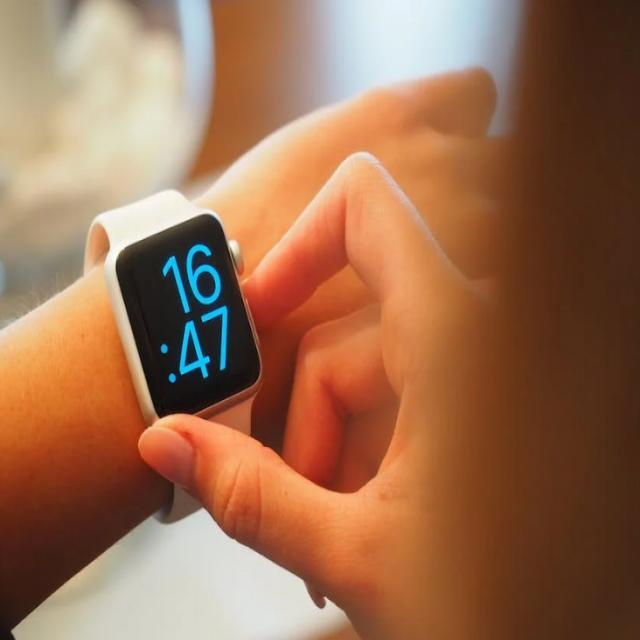Watch: (90, 186, 266, 524)
